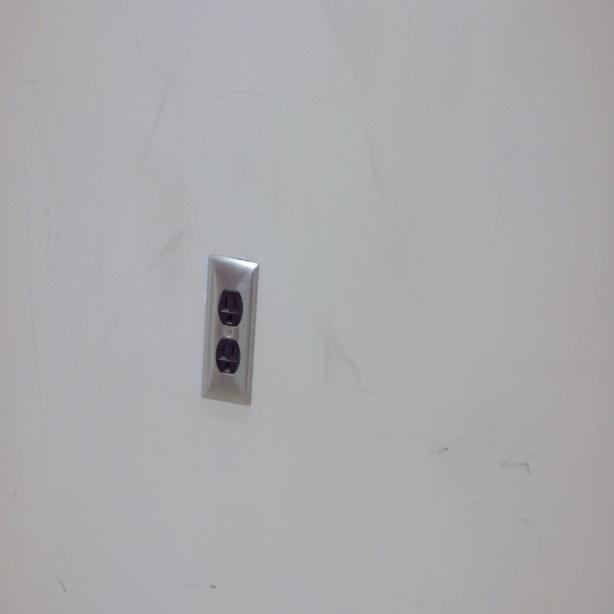typeb: (218, 289, 242, 327), (217, 337, 240, 375)
